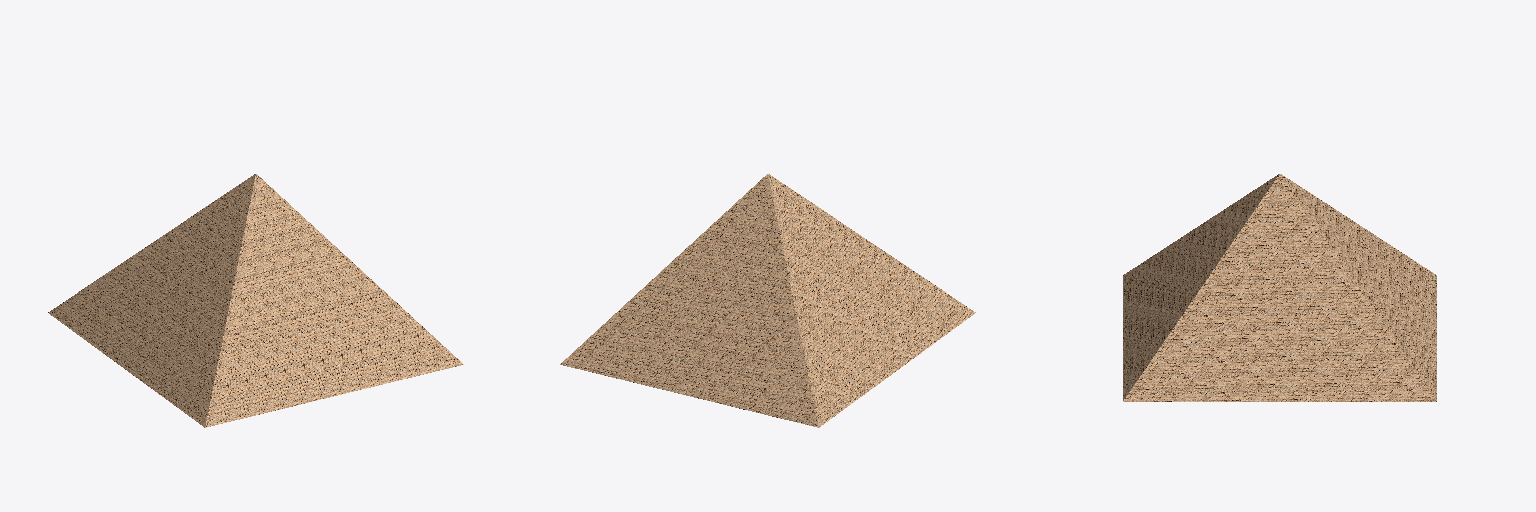
3 views of the same model, side by side, from view 1: azimuth 30°, elevation 25°; view 2: azimuth 150°, elevation 25°; view 3: azimuth 270°, elevation 25° (orthographic).
Visible parts, largest first — view 1: Cube_Cube.001; view 2: Cube_Cube.001; view 3: Cube_Cube.001.
Boxes of the visible parts, box(x1,y1,x2,y2) form: Cube_Cube.001: box(48, 174, 463, 427); Cube_Cube.001: box(560, 174, 975, 427); Cube_Cube.001: box(1123, 174, 1436, 401).
Size of the model in its own units: 18.21 by 11.11 by 19.14.
1 materials, 1 textured.